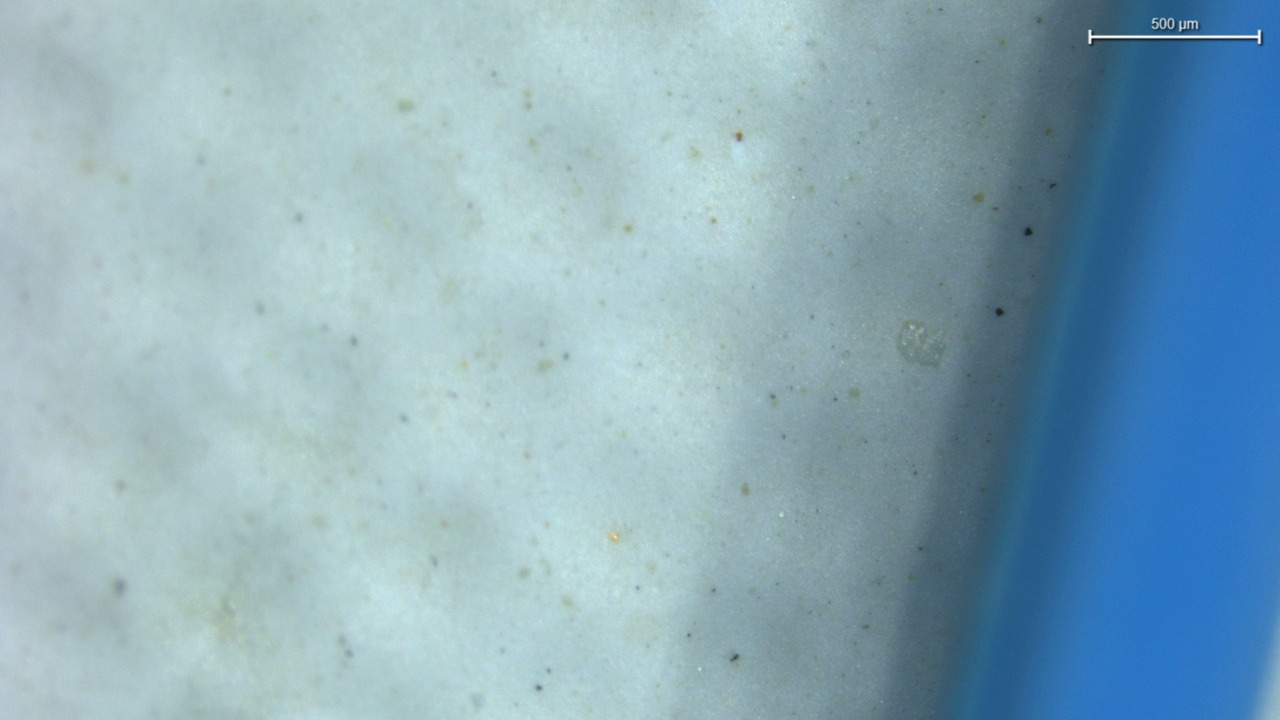microplastic_fragment: (897, 320, 946, 367)
